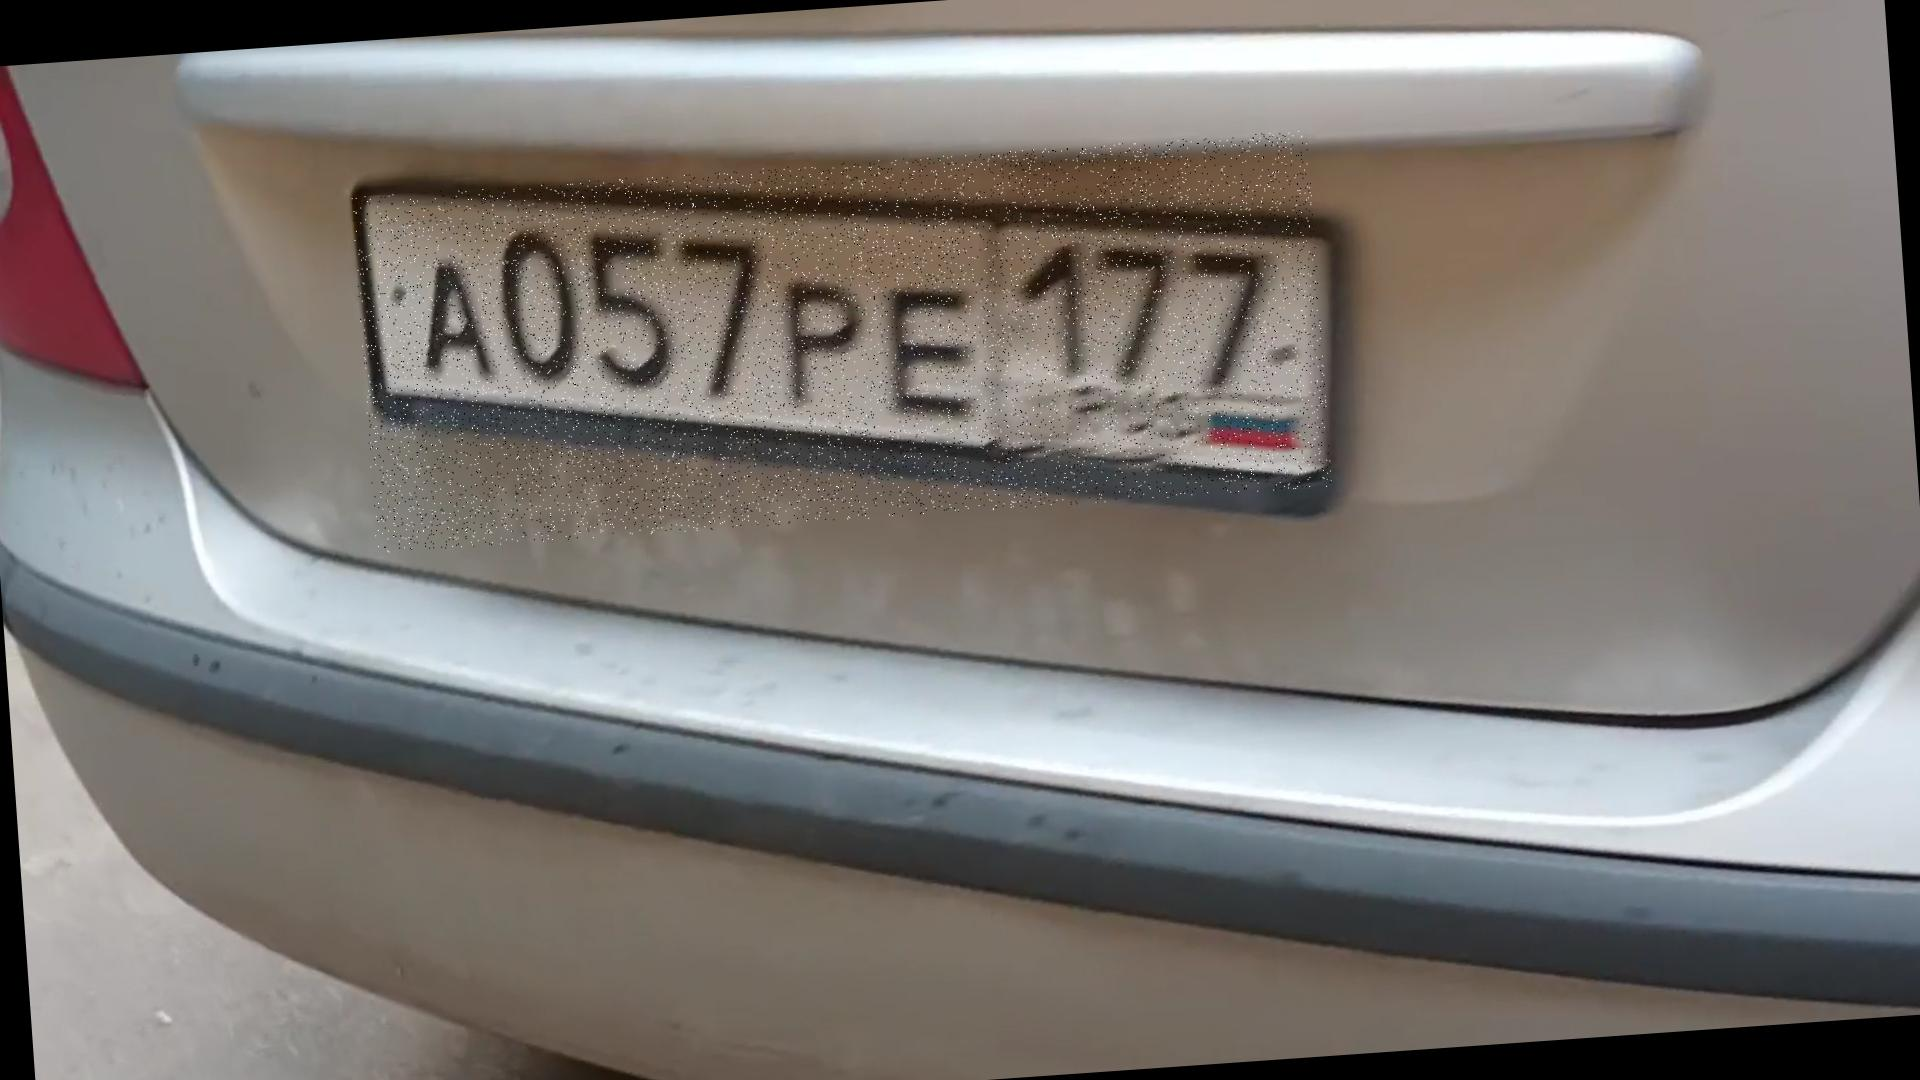plate: (354, 132, 1335, 555)
